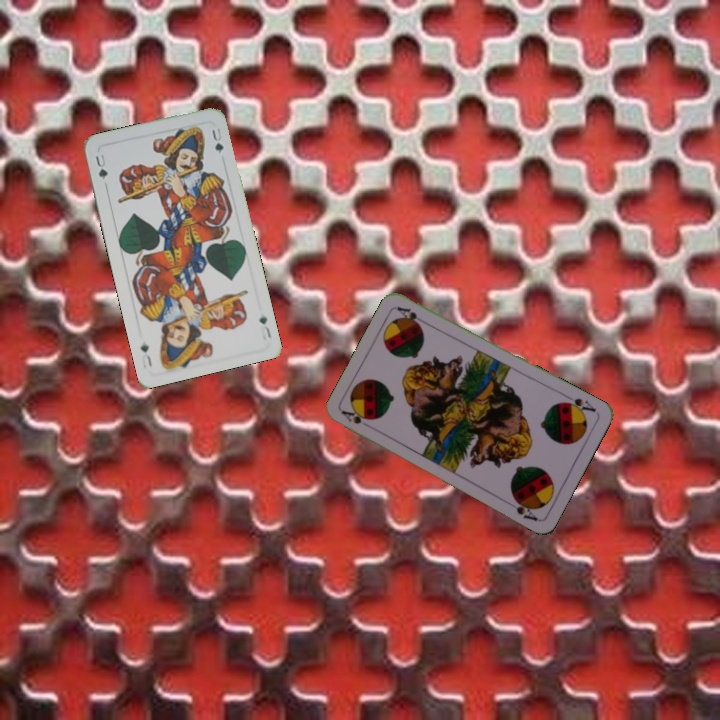GU: (91, 150, 110, 182), (255, 311, 274, 342)
SA: (558, 391, 599, 417), (338, 406, 371, 427)
